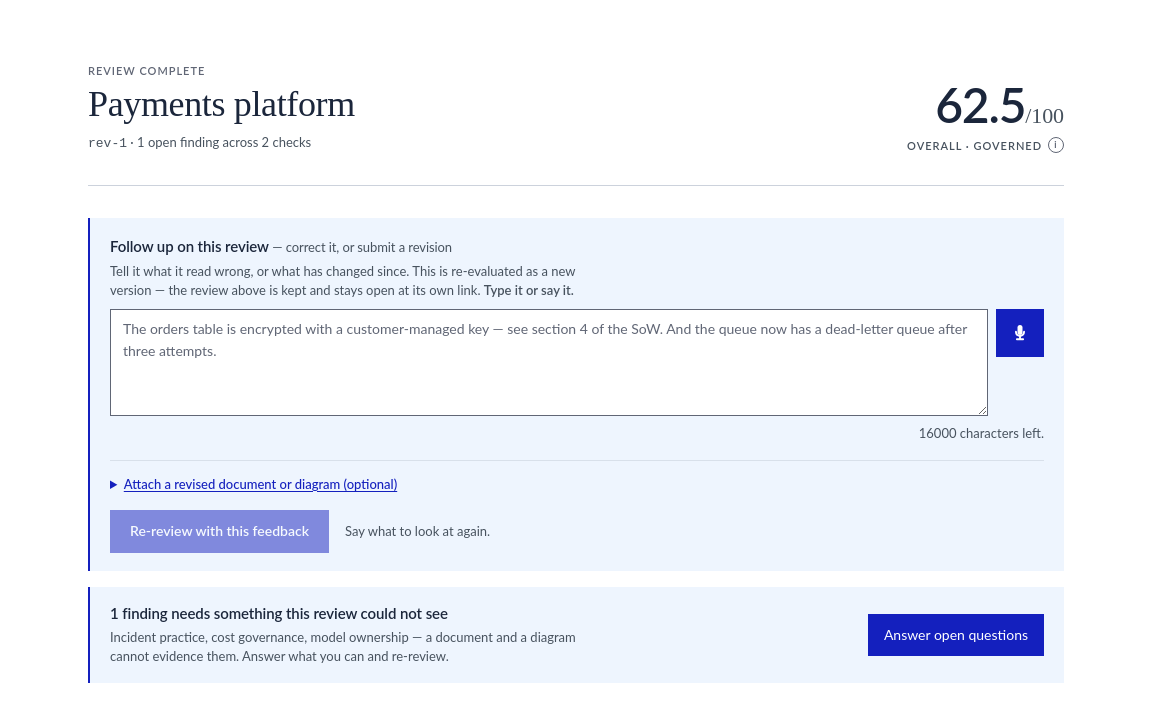
Test case: ResultsView › explains the maturity tiers on demand, using the scoring boundaries
This screenshot has width=1152, height=720.
Click the button named "what the maturity tiers mean".
click(1056, 145)  # box [1048,137,1064,153]
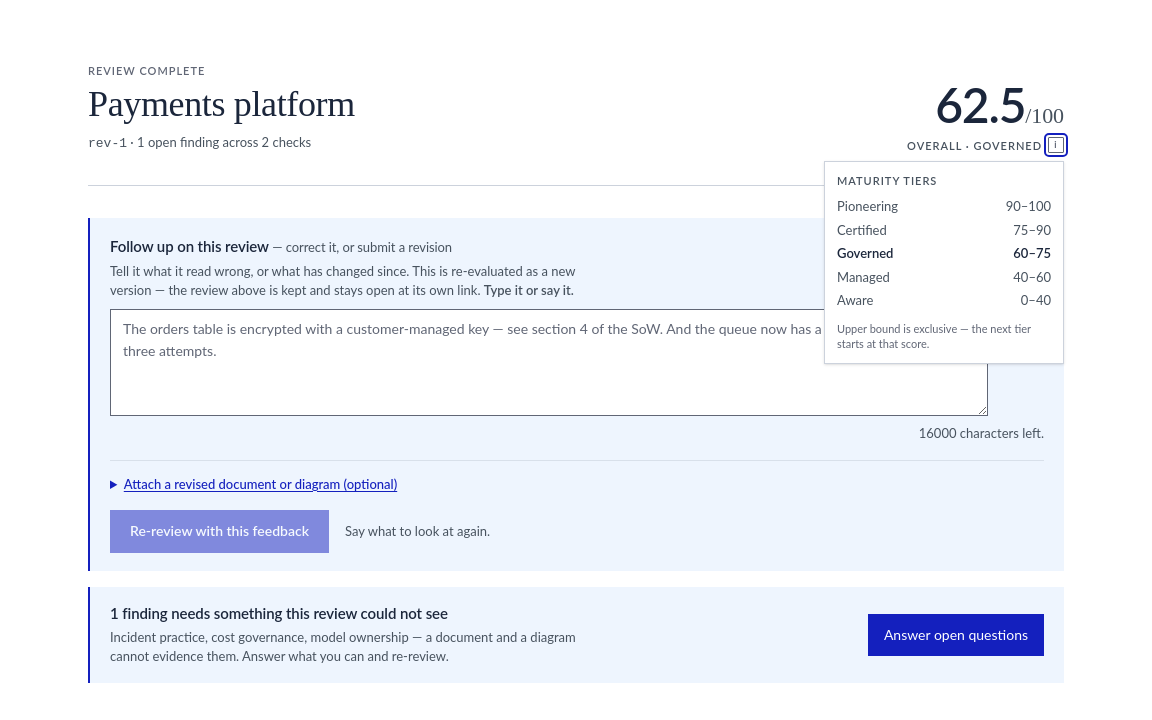
expect the tooltip shows "Pioneering": met, box [837,198,898,214]
expect the tooltip shows "90–100": met, box [1006,198,1051,214]
expect the tooltip shows "Certified": met, box [837,222,887,238]
